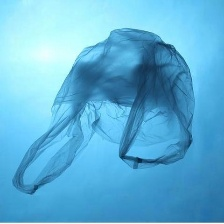plastic_bag: (5, 23, 201, 202)
